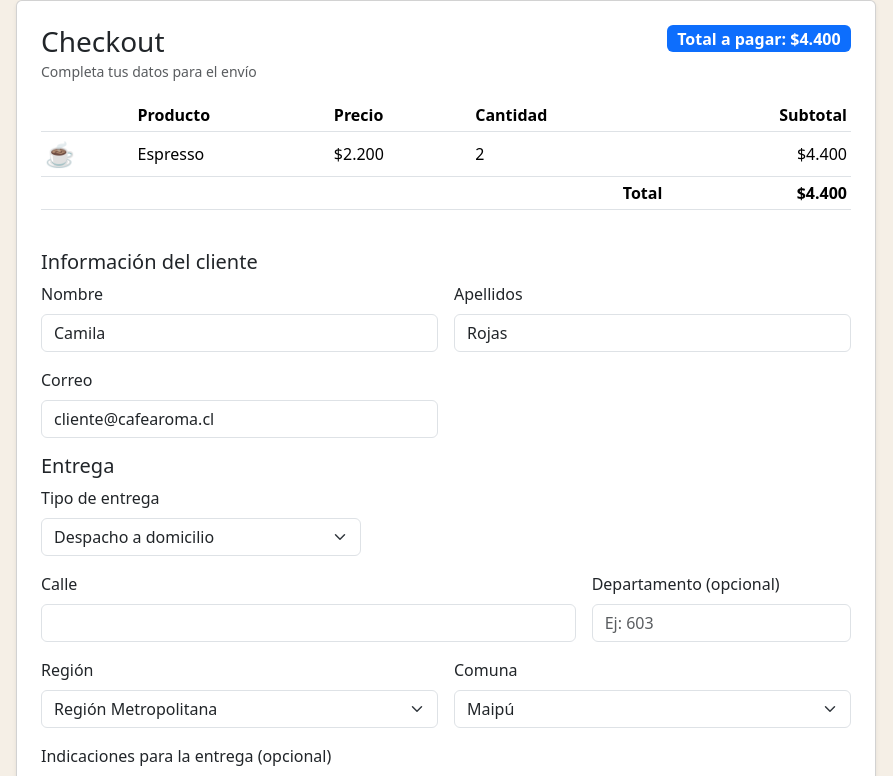
Scenario: CheckoutView › con "Retiro en tienda" se oculta la dirección y se puede pagar sin calle
Select "Retiro en tienda" in the dropdown labelled "Tipo de entrega". click: (201, 537)
box: [41,518,361,556]
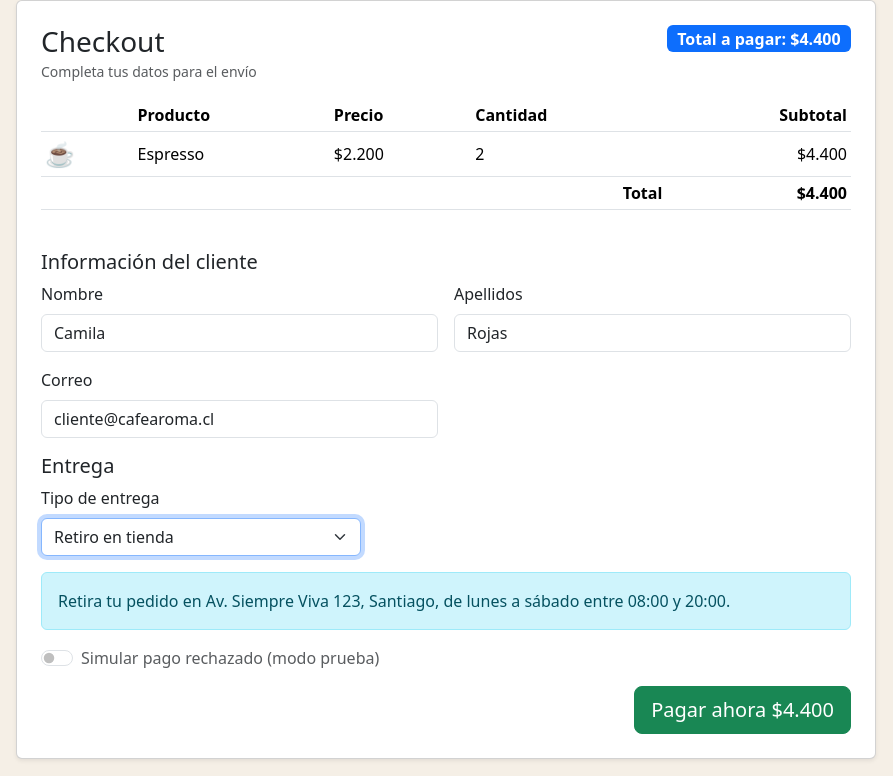
Now the label labelled "Calle" is gone
Click the button "Pagar ahora $4.400". click: (743, 710)
box: [634,686,851,734]
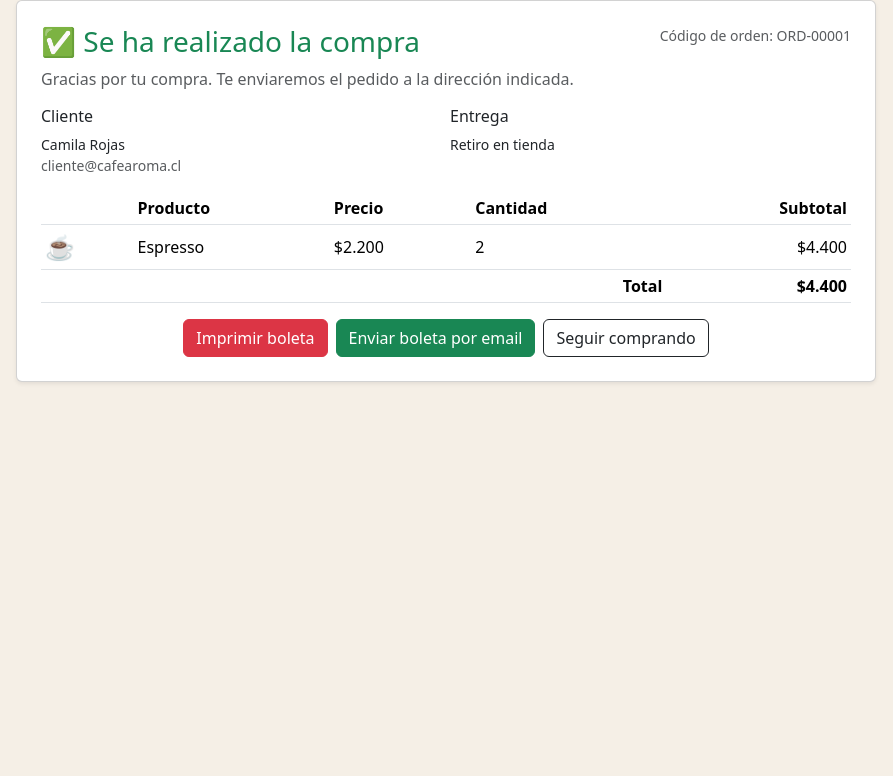
Now the text "Retiro en tienda" is shown, box [450,135,555,154]
